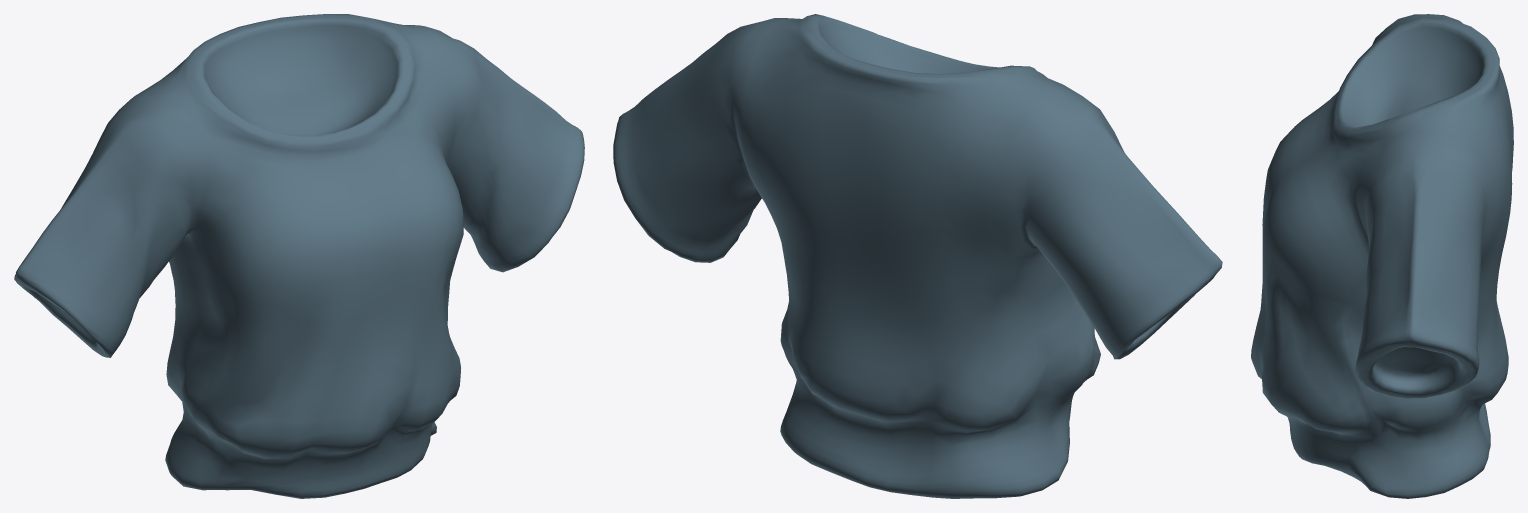
The model's file is top1.fbx.
3 renders of one model, left to right at view 1: azimuth 30°, elevation 25°; view 2: azimuth 150°, elevation 25°; view 3: azimuth 270°, elevation 25°, orthographic. The views are drawn at different scales.
Parts seen in each view (by area): view 1: t-shirt_l; view 2: t-shirt_l; view 3: t-shirt_l.
Part boxes in pixels (<box>): t-shirt_l: <box>14,14,584,498</box>; t-shirt_l: <box>613,14,1222,498</box>; t-shirt_l: <box>1251,14,1513,498</box>.
Bounding box in the file's own units: 45.17 × 30.81 × 18.84.
